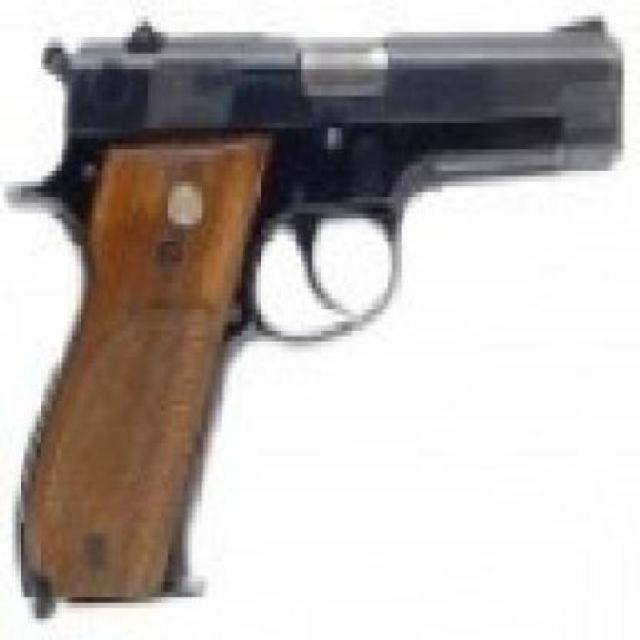gun: (18, 12, 627, 606)
